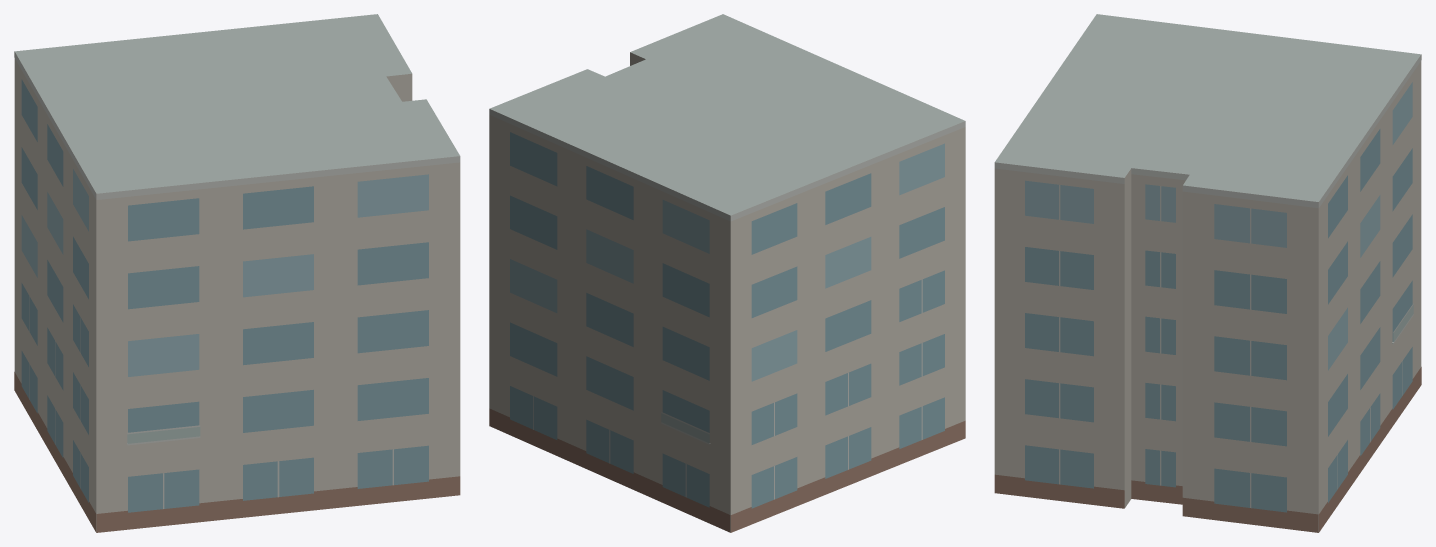
File: survey-upis-33030011.glb
3 renders of one model, left to right at view 1: azimuth 30°, elevation 25°; view 2: azimuth 150°, elevation 25°; view 3: azimuth 270°, elevation 25°, orthographic. The views are drawn at different scales.
Parts seen in each view (by area): view 1: survey-upis-33030011.tmp; view 2: survey-upis-33030011.tmp; view 3: survey-upis-33030011.tmp.
Boxes of the visible parts, x1,y1,x2,y2 form: survey-upis-33030011.tmp: (14, 14, 460, 532); survey-upis-33030011.tmp: (489, 14, 965, 532); survey-upis-33030011.tmp: (994, 14, 1421, 532).
Size of the model in its own units: 16.11 by 13.2 by 15.45.
